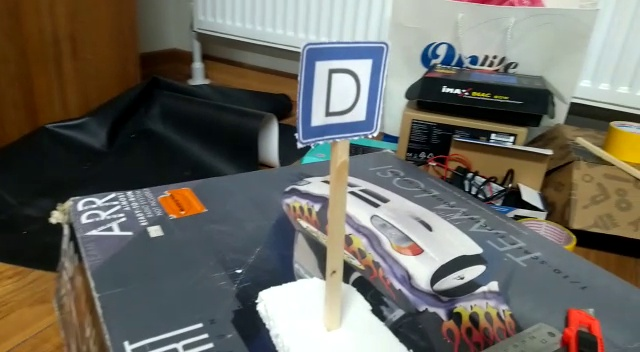durak: (299, 46, 382, 132)
